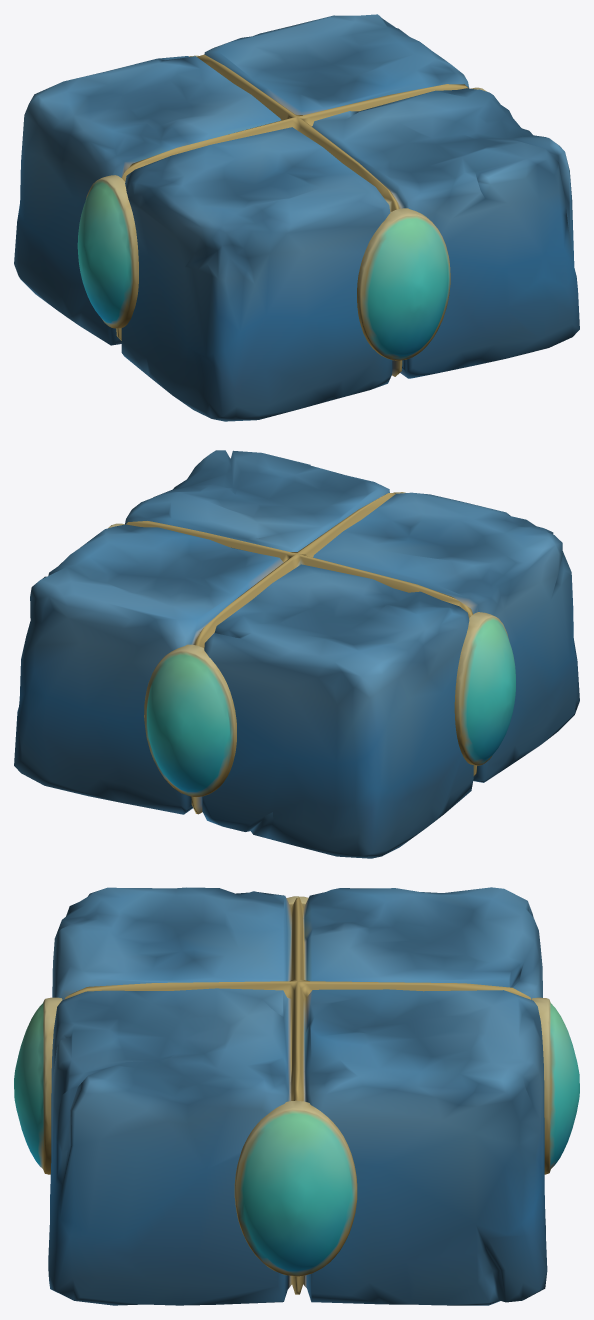
The model's file is SM_pressTile_blue.fbx.
3 renders of one model, top to bottom at view 1: azimuth 30°, elevation 25°; view 2: azimuth 150°, elevation 25°; view 3: azimuth 270°, elevation 25°, orthographic. The views are drawn at different scales.
Visible parts, largest first — view 1: pressureTile_blue; view 2: pressureTile_blue; view 3: pressureTile_blue.
Part boxes in pixels (<box>): pressureTile_blue: <box>14,14,579,421</box>; pressureTile_blue: <box>14,450,579,858</box>; pressureTile_blue: <box>14,887,579,1305</box>.
Size of the model in its own units: 109 by 47.83 by 109.
